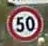limite 50: (5, 5, 44, 41)
